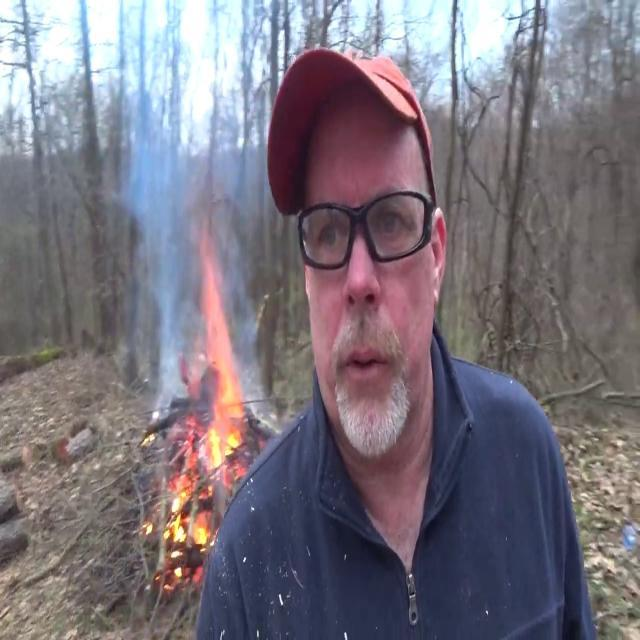Fire: (156, 261, 247, 567), (196, 270, 244, 482)
Smoke: (121, 4, 273, 387)
